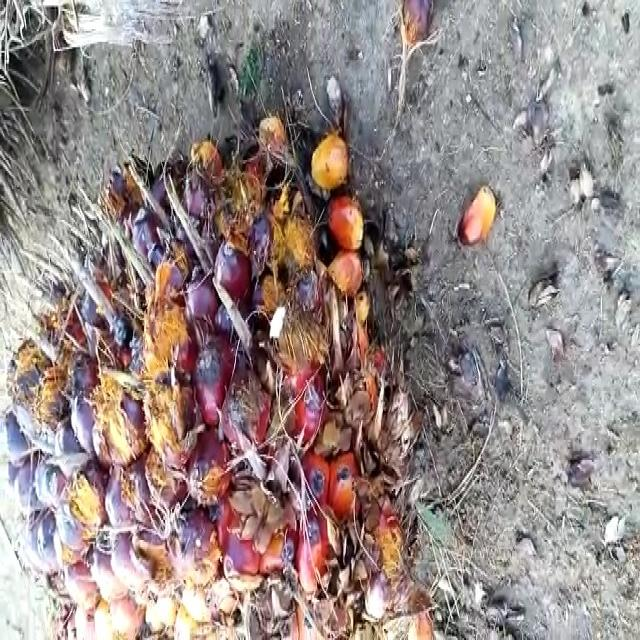palm oil: (14, 149, 429, 640)
